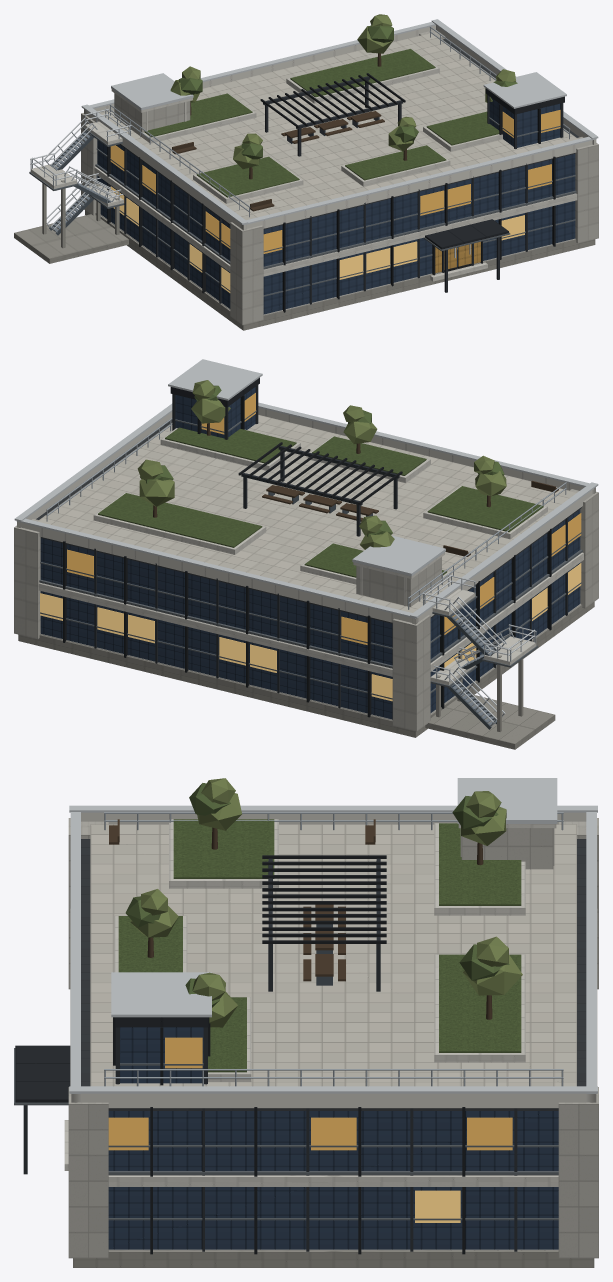
File: civic-information-age-park-built.glb
3 views of the same model, one above another, from view 1: azimuth 30°, elevation 25°; view 2: azimuth 150°, elevation 25°; view 3: azimuth 270°, elevation 25° (orthographic). The views are drawn at different scales.
Size of the model in its own units: 45 by 15.57 by 31.98.
44 materials, 29 textured.
